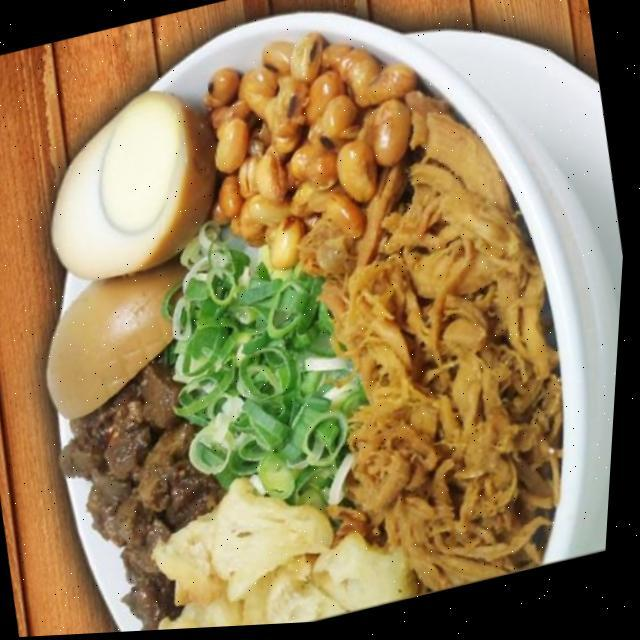bubur ayam: (0, 0, 621, 639)
mangkuk: (0, 0, 640, 640)
telur rebus: (23, 75, 238, 294), (25, 256, 209, 428)
